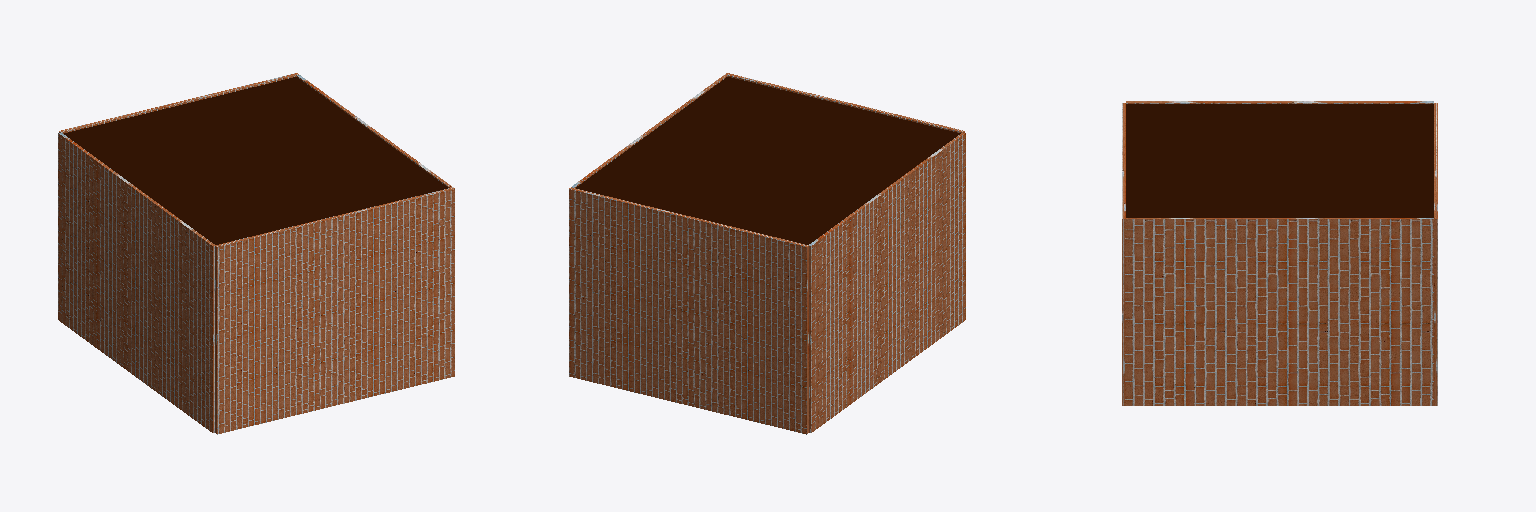
The picture shows the model from 3 angles: view 1: azimuth 30°, elevation 25°; view 2: azimuth 150°, elevation 25°; view 3: azimuth 270°, elevation 25°; orthographic projection.
Parts seen in each view (by area): view 1: WalPainting_Cube, Ceiling_Cube.005, WallBehingTV_Cube.004, WallDoor_Cube.006, WallBehindCouch_Cube.003; view 2: WallDoor_Cube.006, Ceiling_Cube.005, WallBehingTV_Cube.004, WalPainting_Cube, WallBehindCouch_Cube.003; view 3: WallBehindCouch_Cube.003, Ceiling_Cube.005, WallDoor_Cube.006, WalPainting_Cube, WallBehingTV_Cube.004.
Boxes of the visible parts, x1,y1,x2,y2 form: WalPainting_Cube: [215, 187, 454, 434]; Ceiling_Cube.005: [64, 77, 447, 244]; WallBehingTV_Cube.004: [58, 132, 214, 432]; WallDoor_Cube.006: [59, 73, 298, 133]; WallBehindCouch_Cube.003: [297, 75, 453, 187]; WallDoor_Cube.006: [569, 187, 808, 434]; Ceiling_Cube.005: [576, 77, 960, 244]; WallBehingTV_Cube.004: [809, 132, 965, 432]; WalPainting_Cube: [725, 73, 964, 132]; WallBehindCouch_Cube.003: [572, 75, 727, 187]; WallBehindCouch_Cube.003: [1125, 218, 1433, 405]; Ceiling_Cube.005: [1126, 104, 1433, 217]; WallDoor_Cube.006: [1434, 103, 1437, 405]; WalPainting_Cube: [1122, 103, 1125, 405]; WallBehingTV_Cube.004: [1126, 101, 1433, 103].
Size of the model in its own units: 11.92 by 9.05 by 13.56.
Materials: 11 (1 with a texture image).